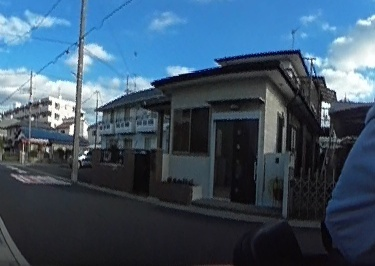person: (329, 38, 375, 262)
